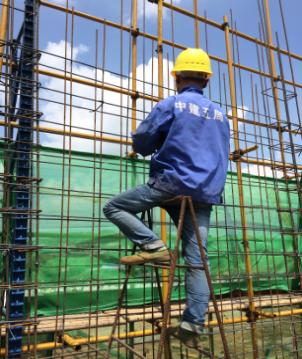boots: (120, 245, 170, 264), (177, 324, 200, 349)
hard-hat: (170, 46, 212, 78)
person: (102, 46, 231, 349)
vest: (131, 84, 228, 191)
